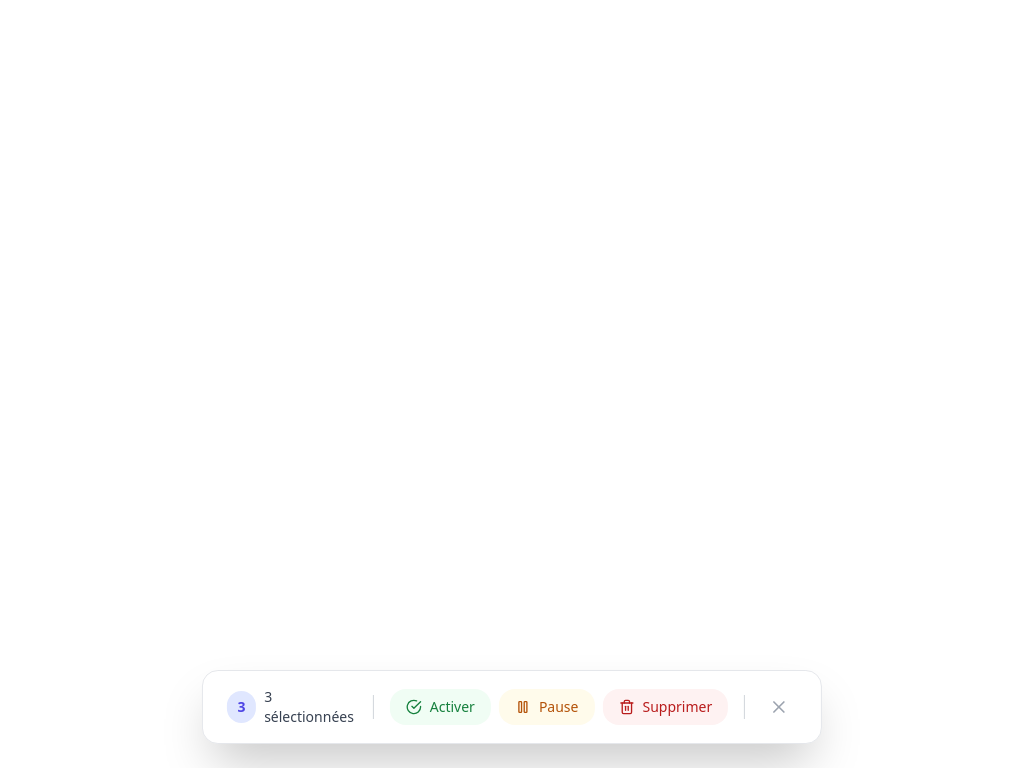
Test: RecurringInvoiceBulkActions › Delete Confirmation › should show confirmation dialog with correct count
The image size is (1024, 768).
Click the button "Supprimer": (665, 707) x1=602 y1=689 x2=728 y2=725
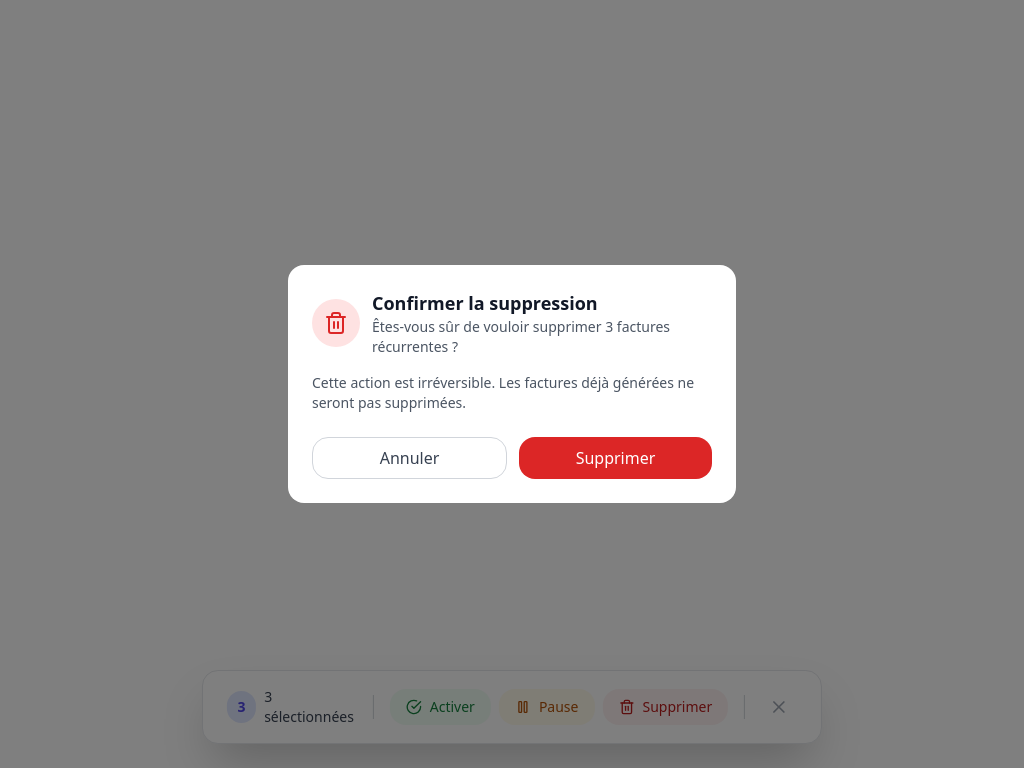
Expected: the text "Êtes-vous sûr de vouloir supprimer 3 factures récurrentes ?" is shown, x1=372 y1=317 x2=712 y2=357
